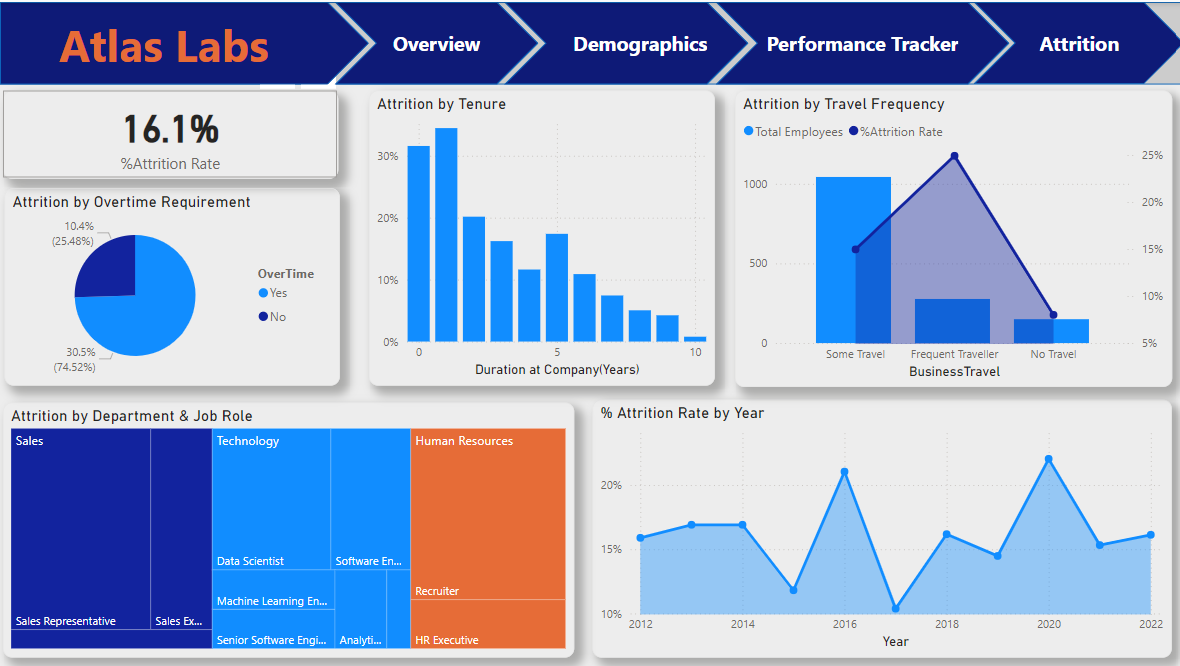

What the dashboard file says about the page in this screenshot:
{"tool":"powerbi","page":{"name":"Attrition","canvas":[1280,720],"ordinal":3},"visuals":[{"type":"shape","box":[0,0,1279.2,89.1],"z":0},{"type":"card","fields":{"Values":["_Measures.%Attrition Rate"]},"box":[3.3,95,361.7,95],"z":1000},{"type":"treemap","title":"Attrition by Department & Job Role","fields":{"Group":["DimEmployee.Department"],"Values":["_Measures.%Attrition Rate"],"Details":["DimEmployee.JobRole"]},"box":[3.3,431.7,616.7,275],"z":2000},{"type":"shape","box":[1051.7,0,228.3,88.3],"z":3000},{"type":"lineChart","title":"% Attrition Rate by Year","fields":{"Category":["DimDate.Date.Variation.Date Hierarchy.Year","DimDate.Date.Variation.Date Hierarchy.Quarter","DimDate.Date.Variation.Date Hierarchy.Month","DimDate.Date.Variation.Date Hierarchy.Day"],"Y":["_Measures.%AttritionRateDate"]},"box":[640,428.3,625,278.3],"z":4000},{"type":"lineStackedColumnComboChart","title":"Attrition by Travel Frequency","fields":{"Category":["DimEmployee.BusinessTravel"],"Y":["_Measures.Total Employees"],"Y2":["_Measures.%Attrition Rate"]},"box":[793.3,95,471.7,320],"z":5000},{"type":"pieChart","title":"Attrition by Overtime Requirement","fields":{"Y":["_Measures.%Attrition Rate"],"Category":["DimEmployee.OverTime"]},"box":[5,200,361.7,213.3],"z":6000},{"type":"clusteredColumnChart","title":"Attrition by Tenure","fields":{"Y":["_Measures.%Attrition Rate"],"Category":["DimEmployee.YearsAtCompany"]},"box":[398.3,95,373.3,318.3],"z":7000},{"type":"shape","box":[361.1,0,220.2,89.1],"z":8000},{"type":"shape","box":[544.1,0,263.9,89.1],"z":9000},{"type":"shape","box":[0,0,398.3,89.1],"z":10000},{"type":"shape","box":[772.4,0,317.4,89.1],"z":11000}]}

Visuals, with their boxes in screenshot pixels (x1, y1, x2, y2), scaled from the page's 1280x720 canvas onto the 1180x666 screenshot:
shape: bbox(0, 0, 1179, 82)
card - _Measures.%Attrition Rate: bbox(3, 88, 336, 176)
"Attrition by Department & Job Role" treemap: bbox(3, 399, 572, 654)
shape: bbox(970, 0, 1179, 82)
"% Attrition Rate by Year" lineChart: bbox(590, 396, 1166, 654)
"Attrition by Travel Frequency" lineStackedColumnComboChart: bbox(731, 88, 1166, 384)
"Attrition by Overtime Requirement" pieChart: bbox(5, 185, 338, 382)
"Attrition by Tenure" clusteredColumnChart: bbox(367, 88, 711, 382)
shape: bbox(333, 0, 536, 82)
shape: bbox(502, 0, 745, 82)
shape: bbox(0, 0, 367, 82)
shape: bbox(712, 0, 1005, 82)
